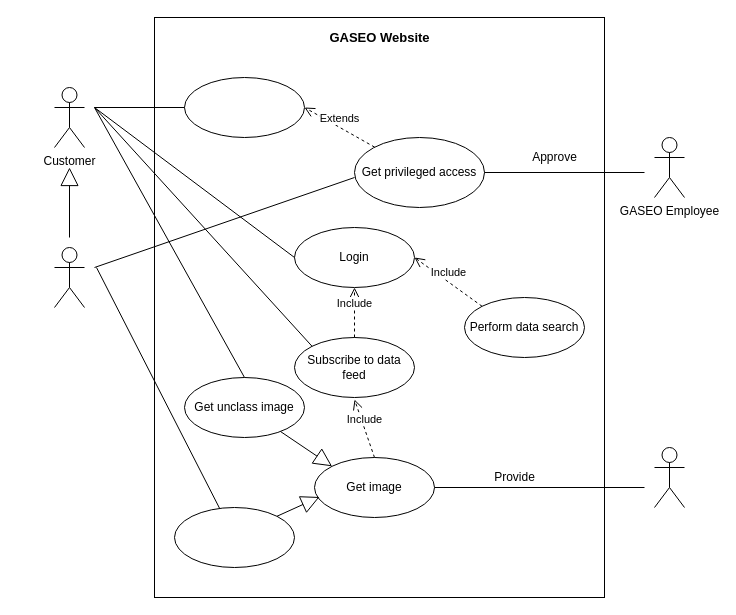
Image size: 736x615. Some labels were removed from this diagram. Here are the shapes that lost their labels. From the top down, the centre of each, then its label:
(x=244, y=107): Register
(x=69, y=277): Privileged customer
(x=669, y=477): <<system>> GASEO API
(x=234, y=537): Get classified image
